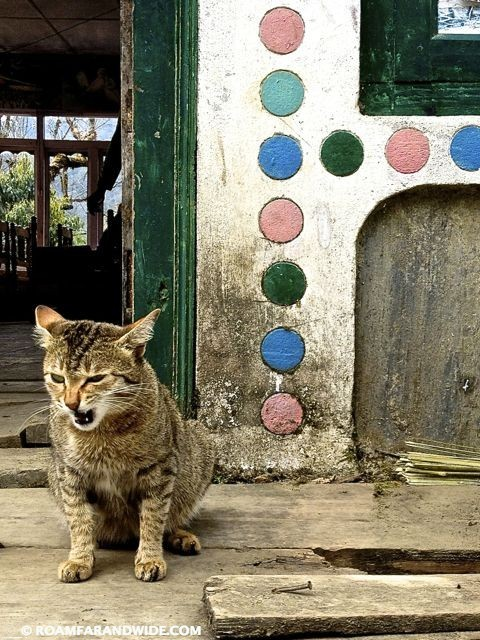cat: (29, 287, 225, 598)
